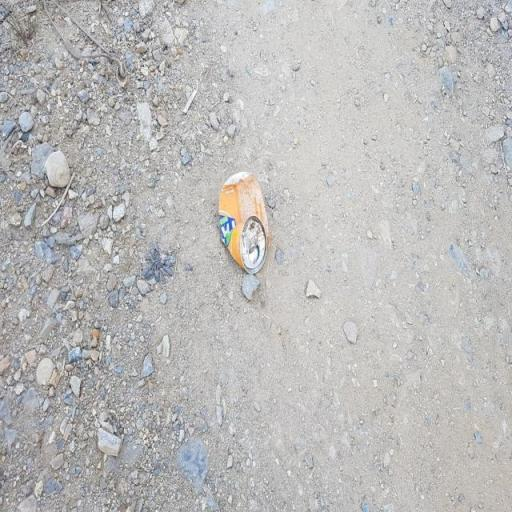metal: (212, 159, 278, 299)
